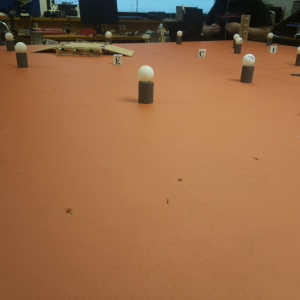obstacle: (137, 65, 156, 105), (238, 53, 255, 82), (14, 42, 30, 68), (5, 32, 16, 53), (177, 29, 184, 45), (267, 31, 274, 46), (236, 38, 242, 54), (233, 33, 240, 45)
side: (55, 47, 103, 57)
slope: (105, 42, 134, 56), (33, 41, 54, 52)
